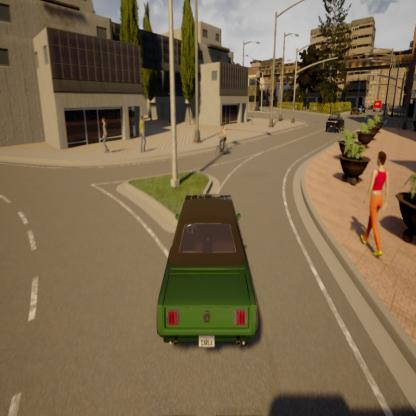Cars: (150, 177, 282, 385), (323, 108, 347, 140), (371, 94, 383, 116), (350, 106, 361, 121)
Pedestrian: (367, 140, 394, 294), (136, 108, 148, 159), (98, 112, 111, 158)
